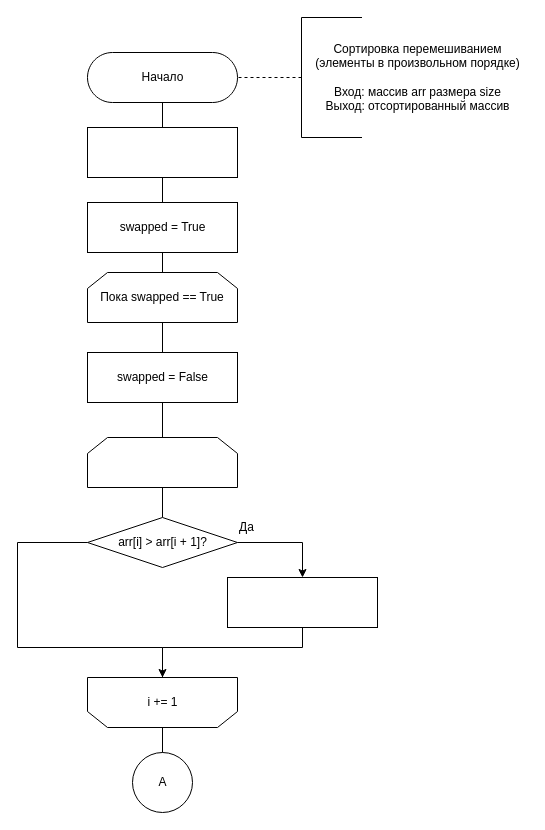
The diagram is 545 pixels wide and 830 high, and some of its shapes have lost their labels. The centre of each missing label's shape, as x and y in pixels:
Левая граница (L) = 0 Правая граница (R) = size - 1: point 162,152
Обмен arr[i] и arr[i + 1] swapped = True: point 302,602
Цикл i от L до R: point 162,462
